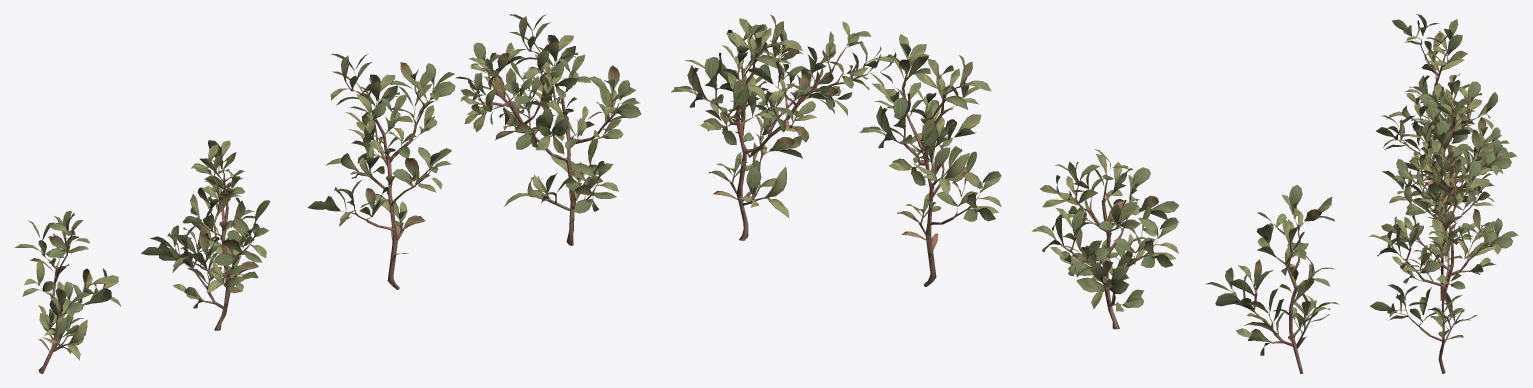
The model's file is prop-shrub4-3f9bd4b7.glb.
The picture shows the model from 3 angles, left to right: view 1: azimuth 30°, elevation 25°; view 2: azimuth 150°, elevation 25°; view 3: azimuth 270°, elevation 25°; orthographic projection. The views are drawn at different scales.
Visible parts, largest first — view 1: shrub_04; view 2: shrub_04; view 3: shrub_04.
Part boxes in pixels (x1=…): shrub_04: x1=14, y1=14, x2=641, y2=373; shrub_04: x1=671, y1=14, x2=1339, y2=373; shrub_04: x1=1368, y1=14, x2=1518, y2=373.
Size of the model in its own units: 0.5837 by 0.2192 by 0.1461.
1 material, 1 textured.
